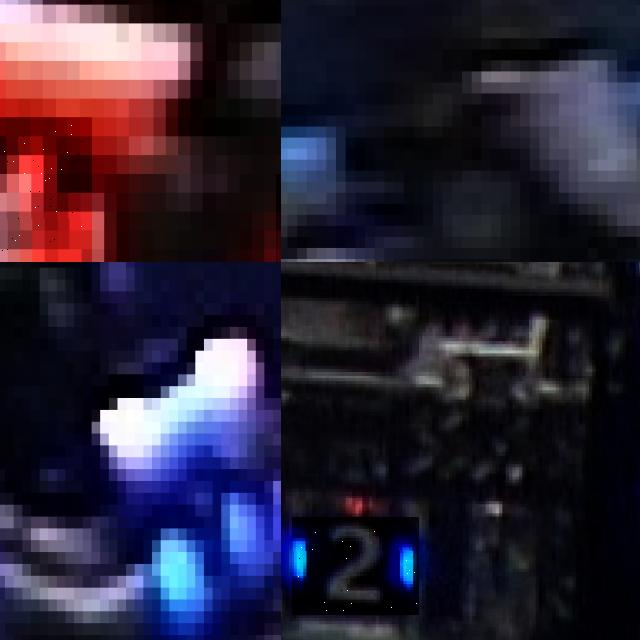B2: (292, 517, 419, 615)
R4: (0, 117, 92, 262)
